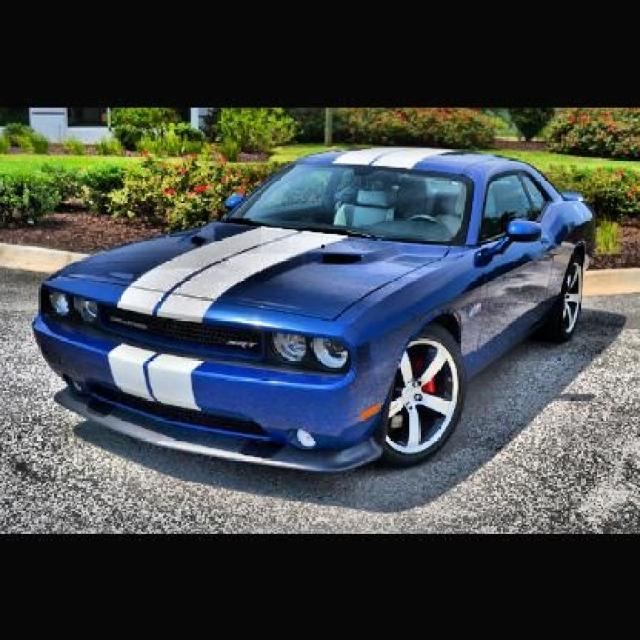blue: (41, 143, 596, 473)
